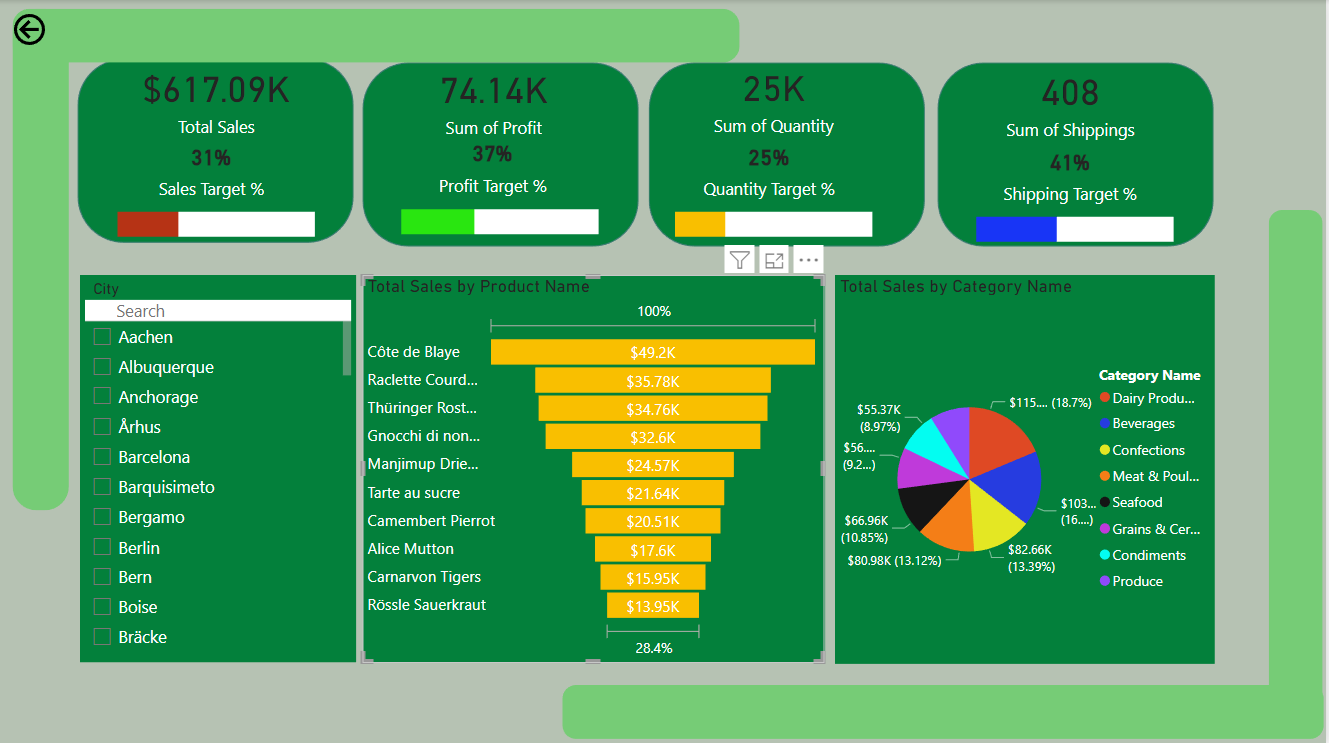

Layout of this report page (visuals, bound fields, positions):
{"tool":"powerbi","page":{"name":"Sales Overview","canvas":[1280,720],"ordinal":1},"visuals":[{"type":"shape","box":[74.8,56.7,266.5,177.3],"z":0},{"type":"hundredPercentStackedBarChart","fields":{"Y":["Sum(order_details.Profit)","order_details.Profit Target"]},"box":[381.9,157.1,200.2,108.5],"z":0,"group":"g6"},{"type":"hundredPercentStackedBarChart","fields":{"Y":["Sum(order_details.Quantity)","order_details.Quantity Target"]},"box":[646.4,159.4,200.2,108.5],"z":0,"group":"g7"},{"type":"hundredPercentStackedBarChart","fields":{"Y":["order_details.Total Sales","order_details.Sales Target"]},"box":[108.5,159.5,200.2,108.5],"z":0,"group":"g5"},{"type":"hundredPercentStackedBarChart","fields":{"Y":["Sum(orders.Shippings)","orders.Shipping Target"]},"box":[937.7,163.9,200.2,108.5],"z":0,"group":"g8"},{"type":"shape","box":[12.5,8.9,54.3,483.6],"z":1000},{"type":"group","id":"g1","title":"Group 1","box":[943.2,49.2,179.7,156.5],"z":1000,"group":"g8"},{"type":"group","id":"g2","title":"Group 1","box":[656,49.6,180.9,151.7],"z":1000,"group":"g7"},{"type":"group","id":"g3","title":"Group 1","box":[118,54.6,180.9,146.8],"z":1000,"group":"g5"},{"type":"group","id":"g4","title":"Group 1","box":[386.1,55.6,180.9,141.8],"z":1000,"group":"g6"},{"type":"shape","box":[12.1,8.4,701.9,51.9],"z":2000},{"type":"shape","box":[542.5,660.8,734,52],"z":3000},{"type":"shape","box":[1224.5,202.8,52,484],"z":4000},{"type":"card","fields":{"Values":["Sum(orders.Shippings)"]},"box":[943.2,49.2,179.7,95.3],"z":5000,"group":"g1"},{"type":"card","fields":{"Values":["Sum(order_details.quantity)"]},"box":[656,49.6,180.9,89.2],"z":5000,"group":"g2"},{"type":"group","id":"g5","title":"Group 2","box":[108.5,54.6,200.2,213.5],"z":5000},{"type":"card","fields":{"Values":["order_details.Total Sales"]},"box":[118,54.6,180.9,79.6],"z":5000,"group":"g3"},{"type":"card","fields":{"Values":["Sum(order_details.Profit)"]},"box":[386.1,55.6,180.9,79.6],"z":5000,"group":"g4"},{"type":"shape","box":[349.4,60.7,266.5,177.3],"z":6000},{"type":"card","fields":{"Values":["order_details.Profit Target %"]},"box":[394,119,161.6,78.4],"z":6000,"group":"g4"},{"type":"card","fields":{"Values":["order_details.Quantity Target %"]},"box":[660.6,122.9,161.6,78.4],"z":6000,"group":"g2"},{"type":"card","fields":{"Values":["order_details.Sales Target %"]},"box":[122.8,123,161.6,78.4],"z":6000,"group":"g3"},{"type":"card","fields":{"Values":["orders.Shipping Target %"]},"box":[951.9,127.3,161.6,78.4],"z":6000,"group":"g1"},{"type":"group","id":"g6","title":"Group 2","box":[381.9,55.6,200.2,210.1],"z":7000},{"type":"shape","box":[625.9,60.3,266.5,177.3],"z":8000},{"type":"group","id":"g7","title":"Group 2","box":[646.4,49.6,200.2,218.4],"z":9000},{"type":"shape","box":[904.5,60.3,266.5,177.3],"z":10000},{"type":"group","id":"g8","title":"Group 2","box":[937.7,49.2,200.2,223.2],"z":11000},{"type":"slicer","fields":{"Values":["customers.city"]},"box":[77.2,265.3,266.5,373.9],"z":12000},{"type":"pieChart","fields":{"Category":["categories.categoryName"],"Y":["order_details.Total Sales"]},"box":[805.6,265.3,366.6,375.1],"z":13000},{"type":"funnel","fields":{"Category":["products.productName"],"Y":["order_details.Total Sales"]},"box":[349.7,265.3,446.2,373.9],"z":14000},{"type":"actionButton","box":[8.4,8.4,100.1,39.8],"z":15000}]}

Visuals, with their boxes in screenshot pixels (x1, y1, x2, y2), scaled from the page's 1280x720 canvas onto the 1329x743 screenshot:
shape: detection(78, 59, 354, 241)
hundredPercentStackedBarChart - Sum(order_details.Profit) x order_details.Profit Target: detection(397, 162, 604, 274)
hundredPercentStackedBarChart - Sum(order_details.Quantity) x order_details.Quantity Target: detection(671, 164, 879, 276)
hundredPercentStackedBarChart - order_details.Total Sales x order_details.Sales Target: detection(113, 165, 321, 277)
hundredPercentStackedBarChart - Sum(orders.Shippings) x orders.Shipping Target: detection(974, 169, 1181, 281)
shape: detection(13, 9, 69, 508)
"Group 1" group: detection(979, 51, 1166, 212)
"Group 1" group: detection(681, 51, 869, 208)
"Group 1" group: detection(123, 56, 310, 208)
"Group 1" group: detection(401, 57, 589, 204)
shape: detection(13, 9, 741, 62)
shape: detection(563, 682, 1325, 736)
shape: detection(1271, 209, 1325, 709)
card - Sum(orders.Shippings): detection(979, 51, 1166, 149)
card - Sum(order_details.quantity): detection(681, 51, 869, 143)
"Group 2" group: detection(113, 56, 321, 277)
card - order_details.Total Sales: detection(123, 56, 310, 138)
card - Sum(order_details.Profit): detection(401, 57, 589, 140)
shape: detection(363, 63, 639, 246)
card - order_details.Profit Target %: detection(409, 123, 577, 204)
card - order_details.Quantity Target %: detection(686, 127, 854, 208)
card - order_details.Sales Target %: detection(128, 127, 295, 208)
card - orders.Shipping Target %: detection(988, 131, 1156, 212)
"Group 2" group: detection(397, 57, 604, 274)
shape: detection(650, 62, 927, 245)
"Group 2" group: detection(671, 51, 879, 277)
shape: detection(939, 62, 1216, 245)
"Group 2" group: detection(974, 51, 1181, 281)
slicer - customers.city: detection(80, 274, 357, 660)
pieChart - categories.categoryName x order_details.Total Sales: detection(836, 274, 1217, 661)
funnel - products.productName x order_details.Total Sales: detection(363, 274, 826, 660)
actionButton: detection(9, 9, 113, 50)
